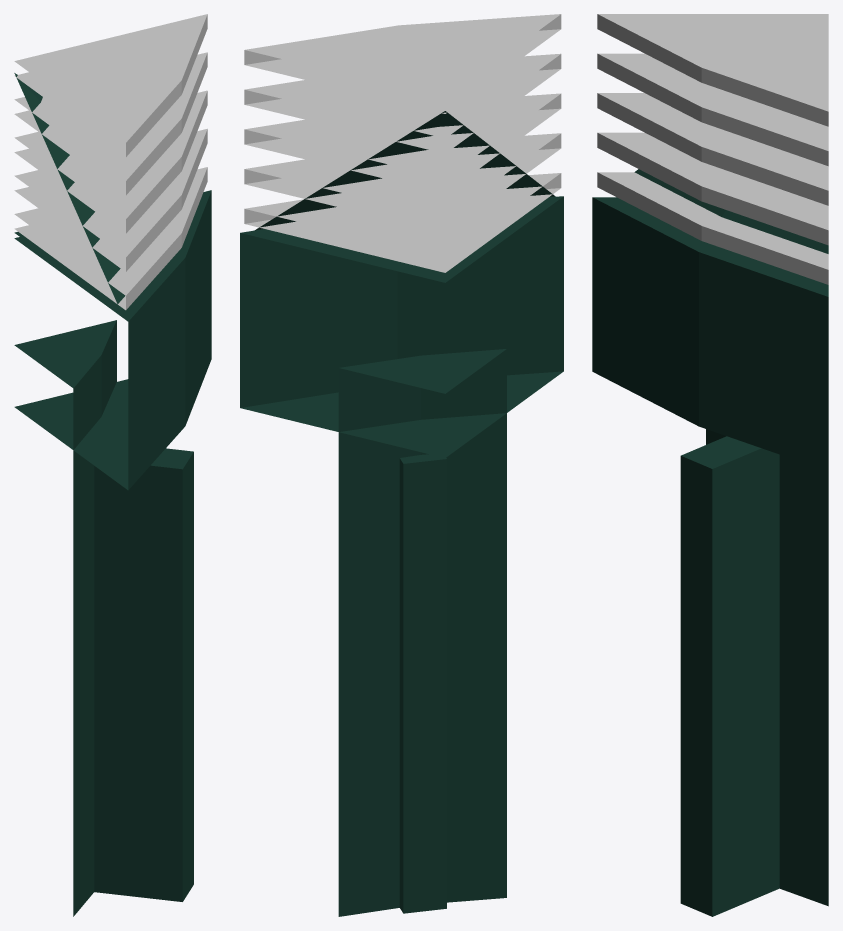
Rendered from cell_53.obj.
The picture shows the model from 3 angles, left to right: view 1: azimuth 30°, elevation 25°; view 2: azimuth 150°, elevation 25°; view 3: azimuth 270°, elevation 25°; orthographic projection. The views are drawn at different scales.
Bounding box in the file's own units: 0.184 × 0.7225 × 0.184.
